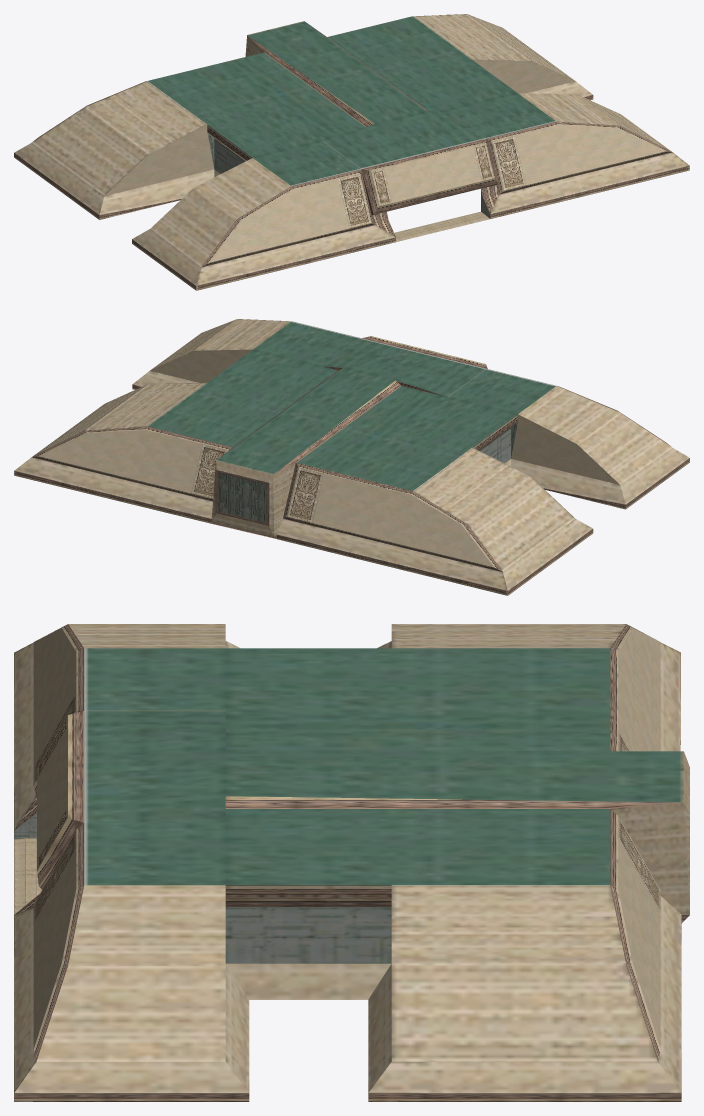
The model's file is mun_nboo_cloning_s01_r0_mesh_l2.fbx.
3 renders of one model, top to bottom at view 1: azimuth 30°, elevation 25°; view 2: azimuth 150°, elevation 25°; view 3: azimuth 270°, elevation 25°, orthographic. The views are drawn at different scales.
Parts seen in each view (by area): view 1: mesh_node; view 2: mesh_node; view 3: mesh_node.
Part boxes in pixels (left/top/right/bottom): mesh_node: left=14, top=14, right=689, bottom=290; mesh_node: left=14, top=319, right=689, bottom=595; mesh_node: left=14, top=624, right=689, bottom=1101.
Bounding box in the file's own units: 62.92 × 8.14 × 40.77.
